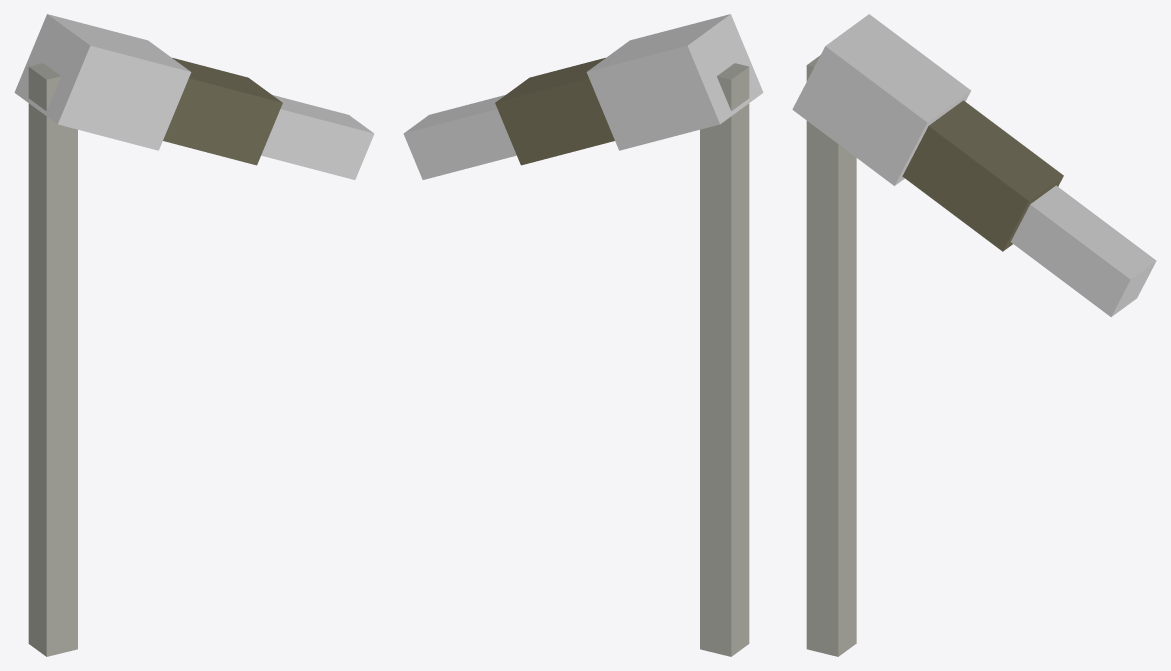
The model's file is SM_MangaViento_v1_Media_LOD1.fbx.
3 views of the same model, side by side, from view 1: azimuth 30°, elevation 25°; view 2: azimuth 150°, elevation 25°; view 3: azimuth 330°, elevation 25° (orthographic).
Parts seen in each view (by area): view 1: SM_ambiente_aerodromo_v1_LOD1; view 2: SM_ambiente_aerodromo_v1_LOD1; view 3: SM_ambiente_aerodromo_v1_LOD1.
Boxes of the visible parts, left/top/right/bottom form: SM_ambiente_aerodromo_v1_LOD1: left=14, top=14, right=374, bottom=656; SM_ambiente_aerodromo_v1_LOD1: left=403, top=14, right=763, bottom=656; SM_ambiente_aerodromo_v1_LOD1: left=792, top=14, right=1156, bottom=656.
Size of the model in its own units: 3.54 by 6.37 by 0.8167.
